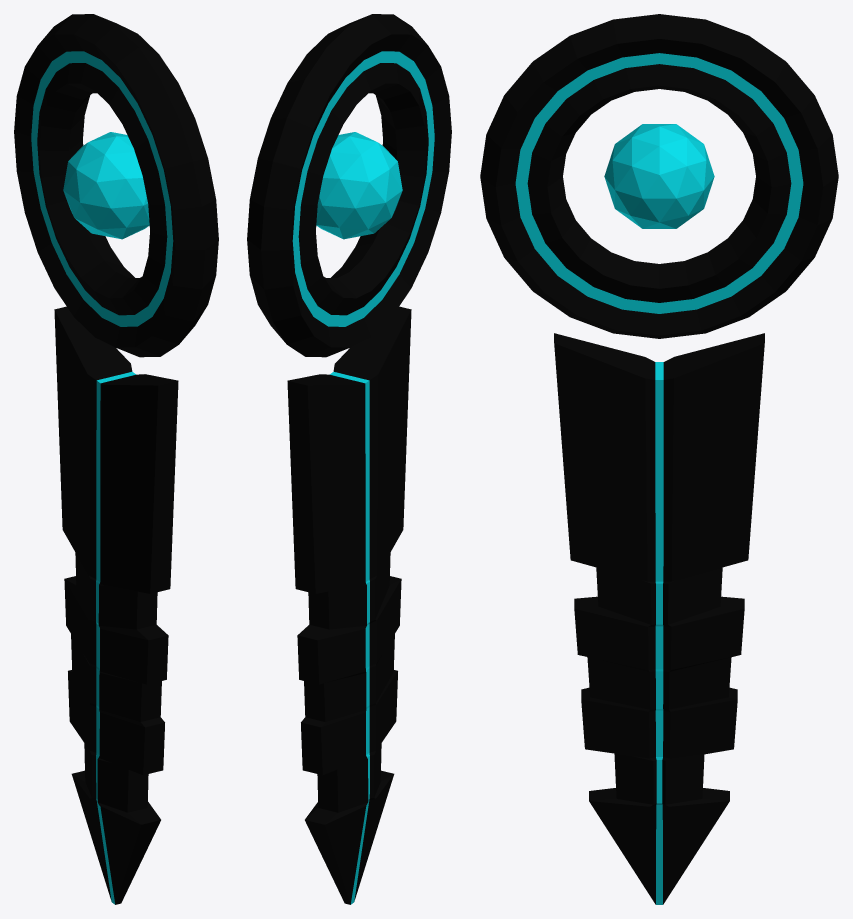
File: key_FBX.fbx
3 views of the same model, side by side, from view 1: azimuth 30°, elevation 25°; view 2: azimuth 150°, elevation 25°; view 3: azimuth 270°, elevation 25° (orthographic).
Parts seen in each view (by area): view 1: Shaft, Ring, Orb; view 2: Shaft, Ring, Orb; view 3: Shaft, Ring, Orb.
Boxes of the visible parts, x1,y1,x2,y2 form: Shaft: [54, 306, 178, 904]; Ring: [14, 14, 218, 357]; Orb: [63, 132, 149, 239]; Shaft: [287, 306, 411, 904]; Ring: [247, 14, 451, 357]; Orb: [316, 132, 402, 239]; Shaft: [554, 333, 764, 904]; Ring: [480, 14, 838, 338]; Orb: [604, 124, 714, 228].
Bounding box in the file's own units: 19.02 × 178 × 65.
